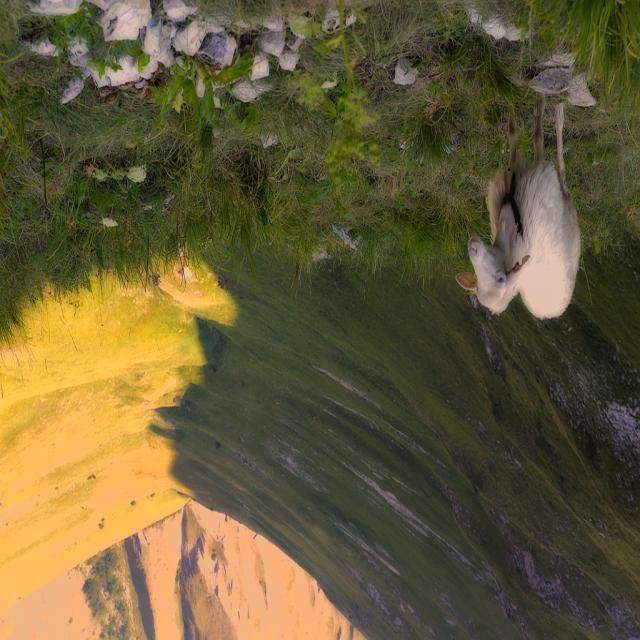Goat: (455, 93, 582, 322)
